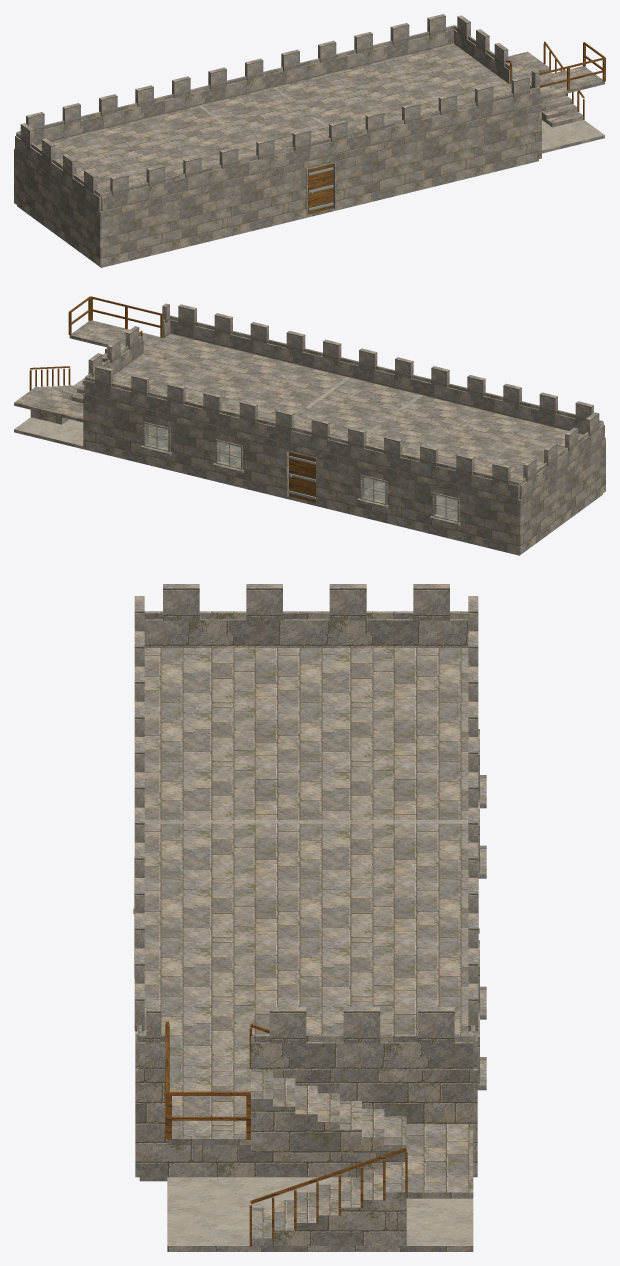
Rendered from castle-barracks-roof-stair.gltf.
3 views of the same model, one above another, from view 1: azimuth 30°, elevation 25°; view 2: azimuth 150°, elevation 25°; view 3: azimuth 270°, elevation 25° (orthographic). The views are drawn at different scales.
Parts seen in each view (by area): view 1: roof-parapet-L1-stone, exterior-L0-stone, roof-L1-stone, datum-band-L0-stone, stairs-L0-stone, floor-L0-stone, walkway-L1-stone, floor-L0-plaster, door-L0-door, guards-L1-wood, stairs-L0-wood; view 2: roof-parapet-L1-stone, roof-L1-stone, exterior-L0-stone, floor-L0-stone, stairs-L0-stone, datum-band-L0-stone, facade-trim-L0-stone, glazing-L0-glass, walkway-L1-stone, floor-L0-plaster, door-L0-door, guards-L1-wood (+2 smaller); view 3: roof-L1-stone, roof-parapet-L1-stone, stairs-L0-stone, exterior-L0-stone, floor-L0-plaster, walkway-L1-stone, datum-band-L0-stone, floor-L0-stone, stairs-L0-wood, guards-L1-wood, facade-trim-L0-stone, interior-L0-plaster.
Boxes of the visible parts, left/top/right/bottom form: roof-parapet-L1-stone: left=15, top=14, right=540, bottom=211; exterior-L0-stone: left=14, top=107, right=541, bottom=265; roof-L1-stone: left=37, top=44, right=511, bottom=193; datum-band-L0-stone: left=14, top=84, right=541, bottom=215; stairs-L0-stone: left=508, top=51, right=583, bottom=127; floor-L0-stone: left=17, top=135, right=604, bottom=267; walkway-L1-stone: left=530, top=66, right=604, bottom=99; floor-L0-plaster: left=542, top=120, right=604, bottom=150; door-L0-door: left=308, top=164, right=333, bottom=214; guards-L1-wood: left=539, top=42, right=605, bottom=90; stairs-L0-wood: left=505, top=41, right=584, bottom=119; roof-parapet-L1-stone: left=84, top=303, right=604, bottom=499; roof-L1-stone: left=113, top=334, right=583, bottom=481; exterior-L0-stone: left=83, top=397, right=605, bottom=553; floor-L0-stone: left=14, top=425, right=602, bottom=555; stairs-L0-stone: left=14, top=348, right=123, bottom=424; datum-band-L0-stone: left=83, top=337, right=605, bottom=503; facade-trim-L0-stone: left=140, top=421, right=460, bottom=526; glazing-L0-glass: left=146, top=424, right=457, bottom=519; walkway-L1-stone: left=69, top=320, right=160, bottom=350; floor-L0-plaster: left=14, top=377, right=85, bottom=445; door-L0-door: left=289, top=452, right=315, bottom=502; guards-L1-wood: left=68, top=296, right=163, bottom=337; roof-L1-stone: left=144, top=647, right=468, bottom=1068; roof-parapet-L1-stone: left=134, top=584, right=478, bottom=1070; stairs-L0-stone: left=251, top=1070, right=473, bottom=1245; exterior-L0-stone: left=135, top=1076, right=477, bottom=1177; floor-L0-plaster: left=167, top=1177, right=473, bottom=1245; walkway-L1-stone: left=167, top=1068, right=250, bottom=1144; datum-band-L0-stone: left=135, top=1066, right=477, bottom=1076; floor-L0-stone: left=139, top=1177, right=473, bottom=1251; stairs-L0-wood: left=249, top=1023, right=407, bottom=1246; guards-L1-wood: left=165, top=1021, right=250, bottom=1139; facade-trim-L0-stone: left=477, top=729, right=486, bottom=1090; interior-L0-plaster: left=144, top=820, right=468, bottom=892.
Size of the model in its own units: 21.13 by 3.42 by 6.35.
Materials: 6 (4 with a texture image).
